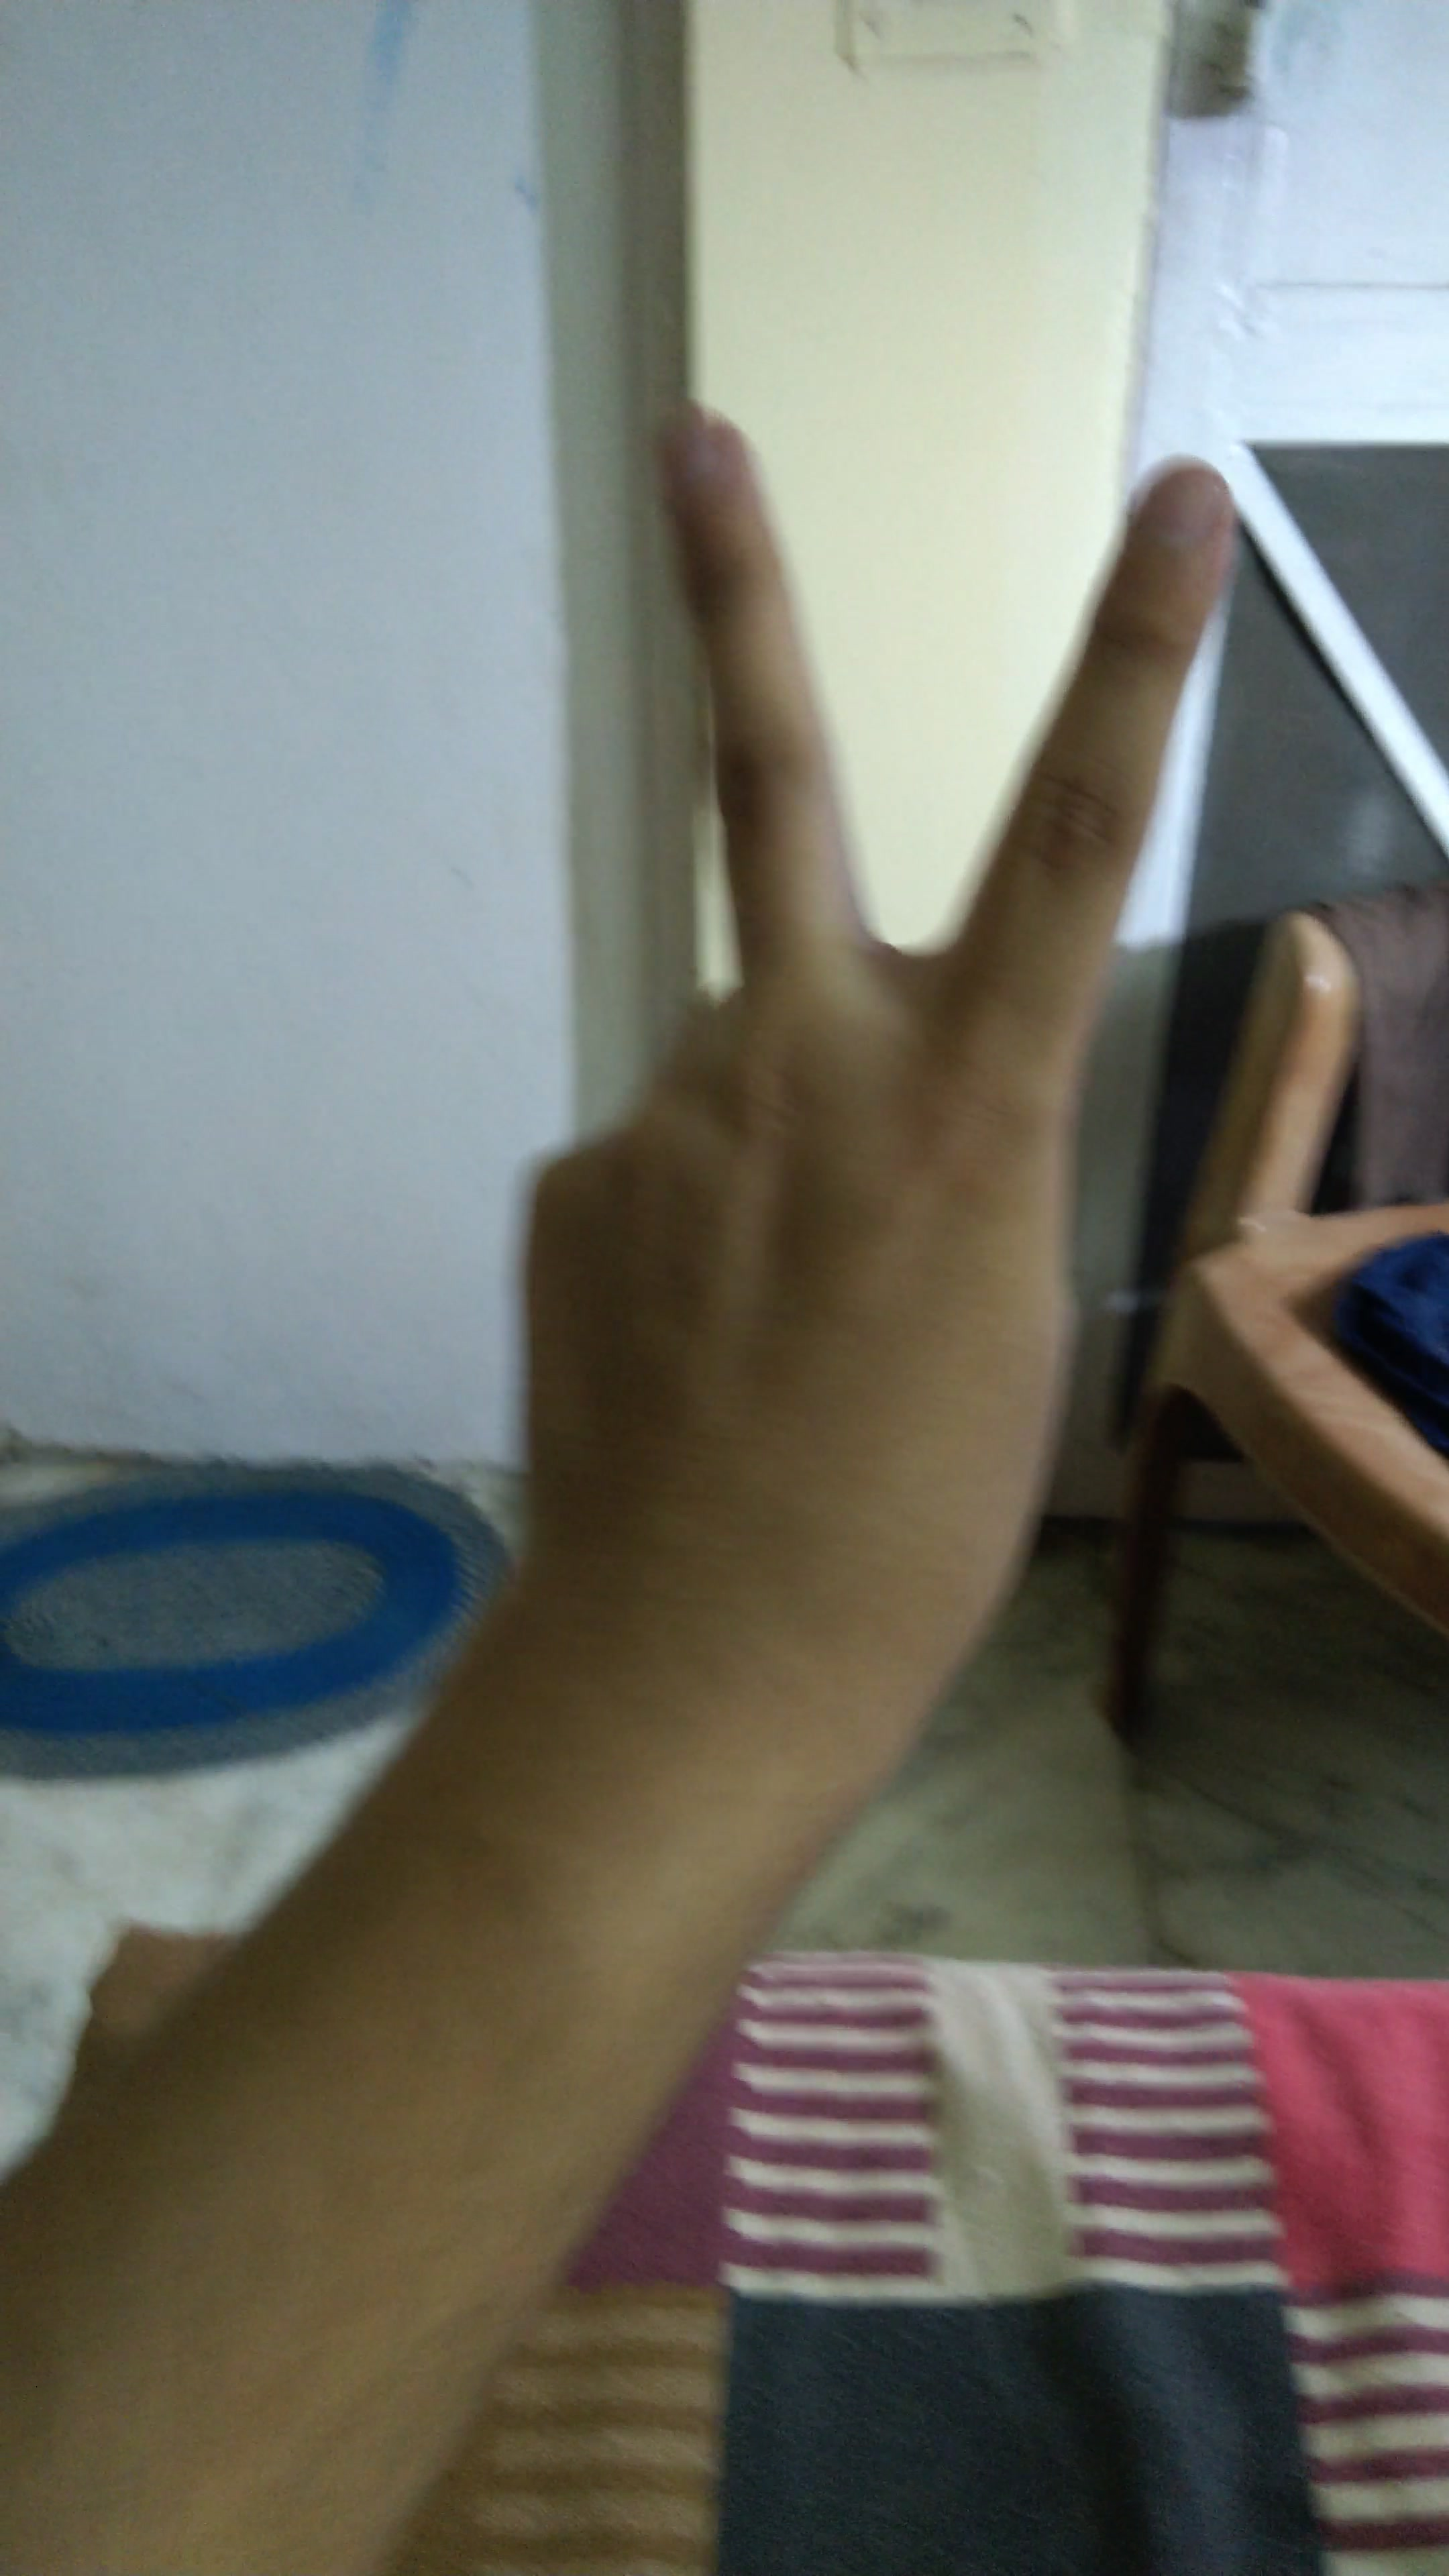hand: (363, 359, 1256, 1803)
